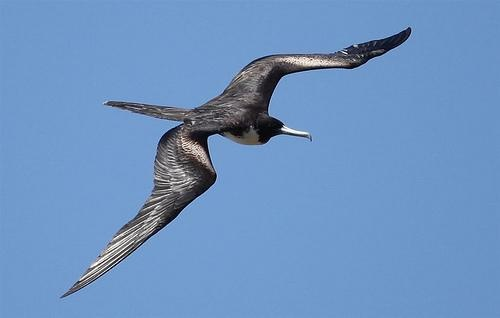bird: (60, 27, 412, 299)
